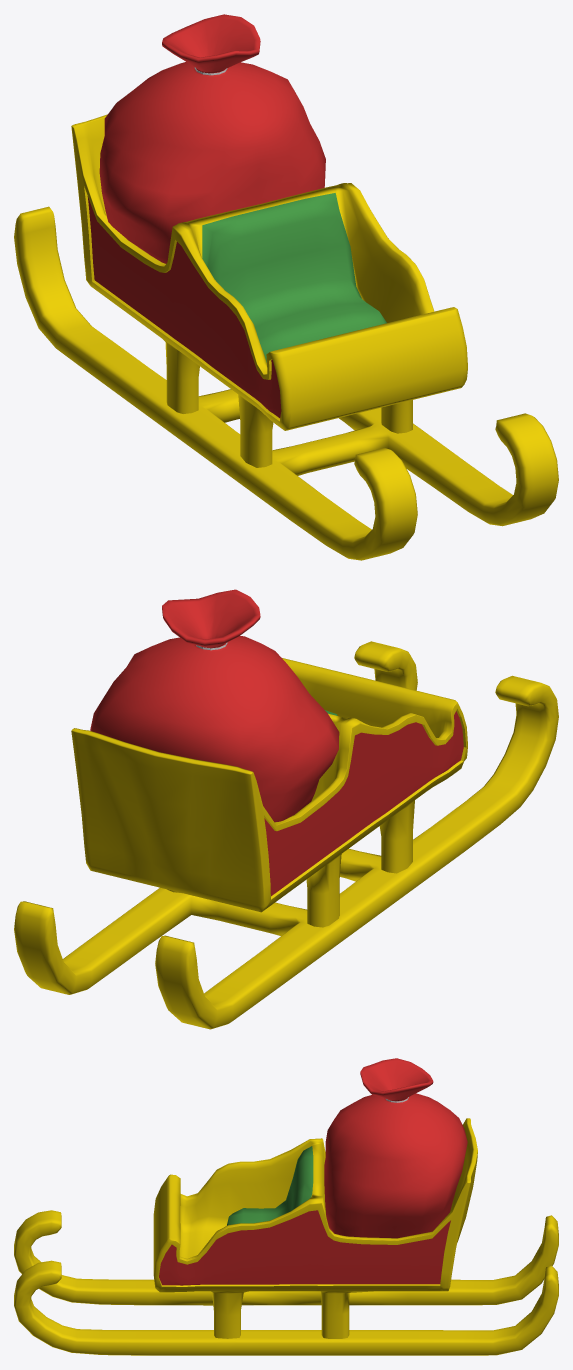
The model's file is schlitten.fbx.
3 views of the same model, one above another, from view 1: azimuth 30°, elevation 25°; view 2: azimuth 150°, elevation 25°; view 3: azimuth 270°, elevation 25° (orthographic). The views are drawn at different scales.
Visible parts, largest first — view 1: Sled, Sack; view 2: Sled, Sack; view 3: Sled, Sack.
Boxes of the visible parts, x1=… form: Sled: x1=14, y1=114, x2=558, y2=560; Sack: x1=99, y1=14, x2=325, y2=263; Sled: x1=14, y1=641, x2=558, y2=1029; Sack: x1=90, y1=589, x2=339, y2=822; Sled: x1=14, y1=1118, x2=558, y2=1355; Sack: x1=324, y1=1058, x2=467, y2=1238.
Bounding box in the file's own units: 1.59 × 2.54 × 4.94.
